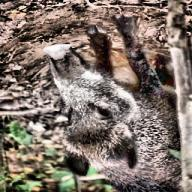boar: (42, 14, 191, 192)
